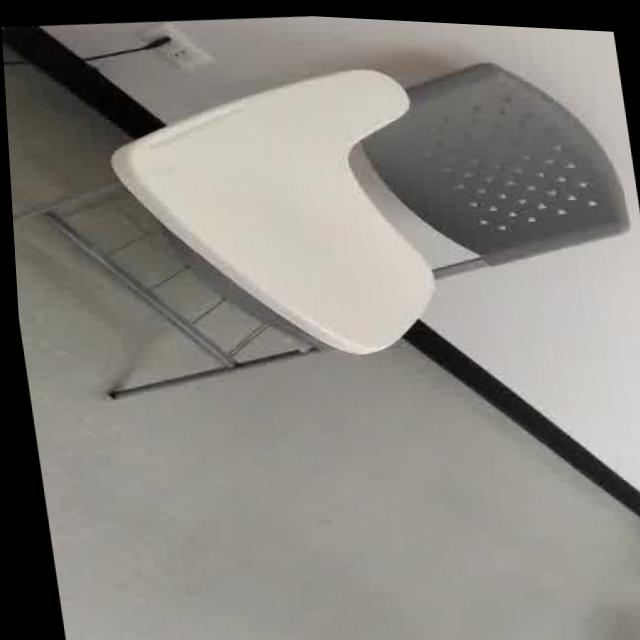chair: (0, 0, 640, 443)
